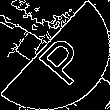P_NW: (22, 24, 88, 86)
